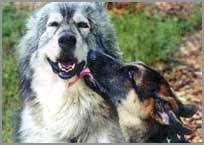dog: (14, 0, 124, 144), (79, 48, 199, 144)
